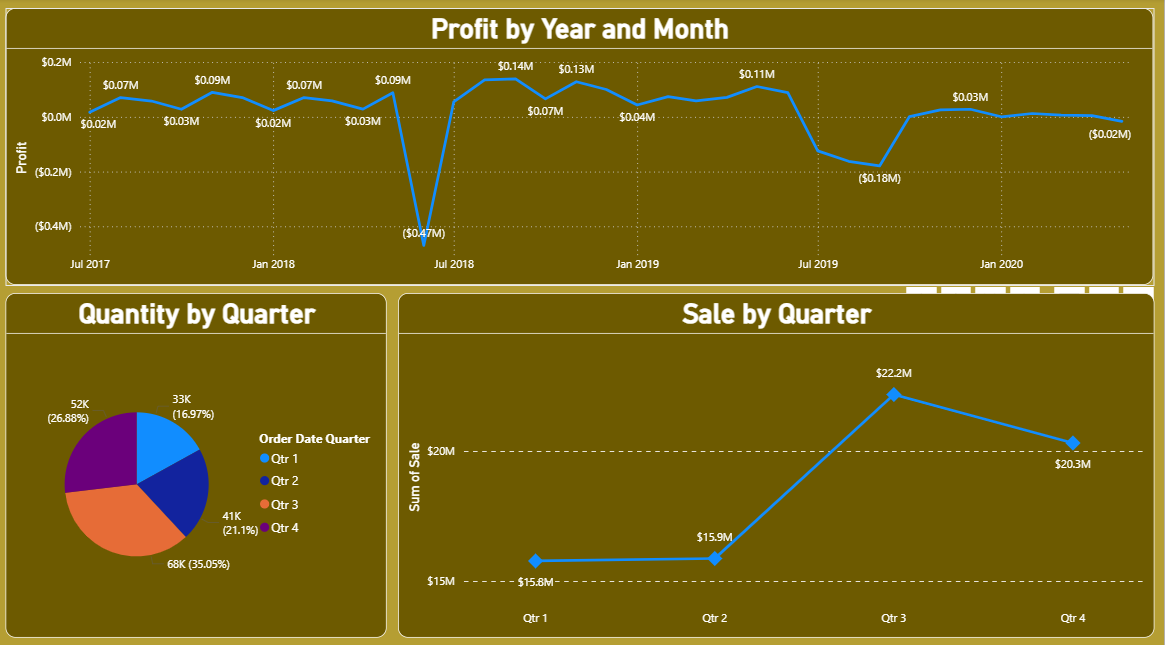

Layout of this report page (visuals, bound fields, positions):
{"tool":"powerbi","page":{"name":"Page 2","canvas":[1280,720],"ordinal":1},"visuals":[{"type":"lineChart","title":"Profit by Year and Month","fields":{"Category":["Sales.Order Date.Variation.Date Hierarchy.Year","Sales.Order Date.Variation.Date Hierarchy.Month"],"Y":["Sales.profit"]},"box":[8.8,11.2,1260,303.8],"z":0},{"type":"pieChart","title":"Quantity by Quarter","fields":{"Category":["Sales.Order Date.Variation.Date Hierarchy.Quarter"],"Y":["Sum(Sales.Quantity)"]},"box":[8.8,323.8,418.8,378.8],"z":1000},{"type":"lineChart","title":"Sale by Quarter","fields":{"Y":["Sum(Sales.Sale)"],"Category":["Sales.Order Date.Variation.Date Hierarchy.Quarter"]},"box":[438.8,323.8,830,378.8],"z":2000}]}

Visuals, with their boxes in screenshot pixels (x1, y1, x2, y2), scaled from the page's 1280x720 canvas onto the 1165x645 screenshot:
"Profit by Year and Month" lineChart: left=8, top=10, right=1155, bottom=282
"Quantity by Quarter" pieChart: left=8, top=290, right=389, bottom=629
"Sale by Quarter" lineChart: left=399, top=290, right=1155, bottom=629
